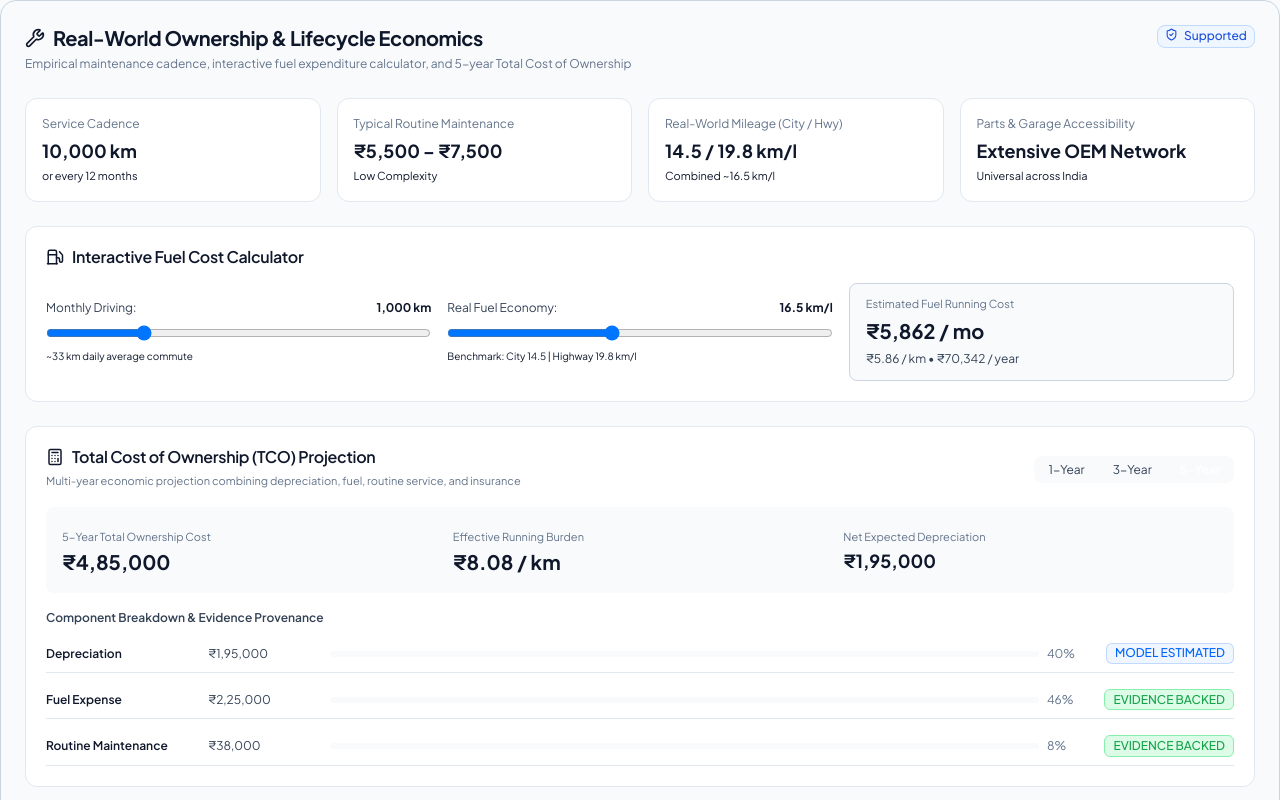
Phase 14 — Market Intelligence & Real-World Ownership Components › interacts with Fuel Cost Calculator sliders and updates monthly cost
Set the slider below "Monthly Driving:" to "2000" at (255, 333), box [46,325,431,341]
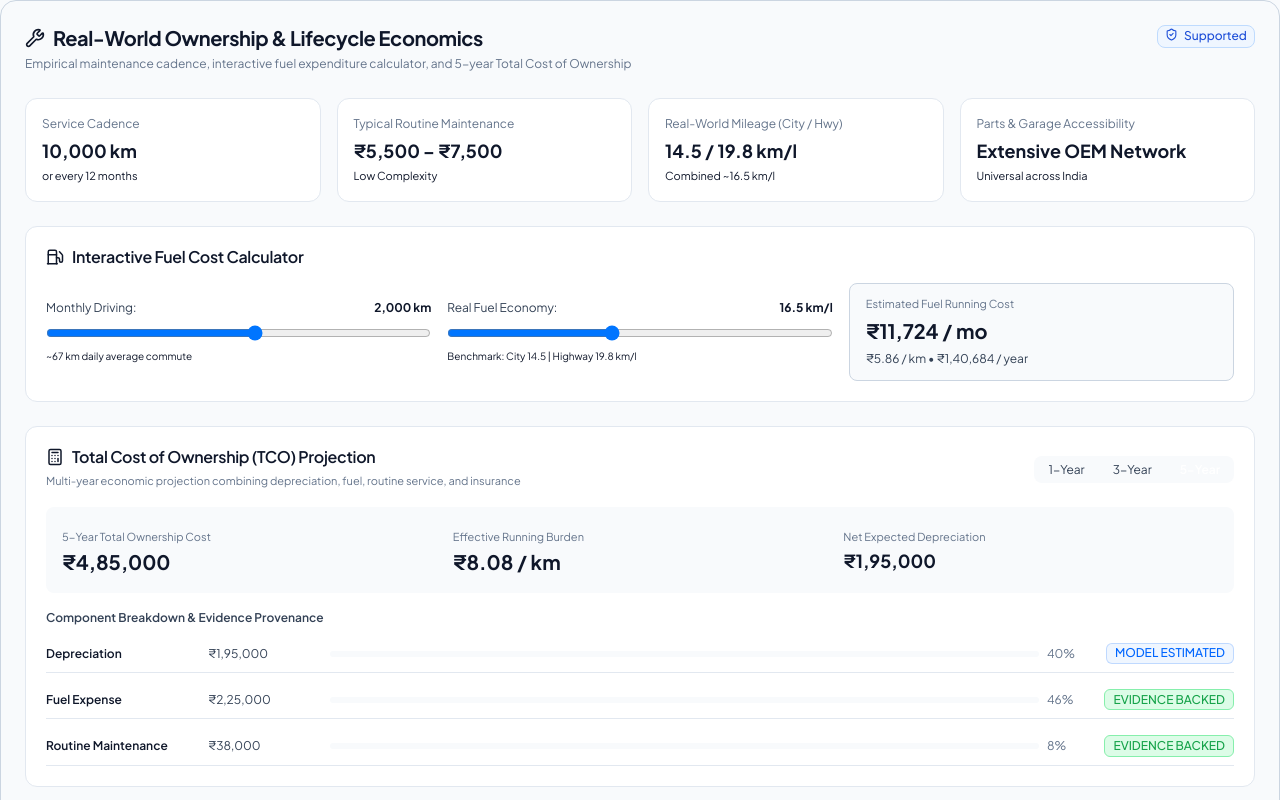
Result: the text "2,000 km" is shown at [374,299,431,317]
